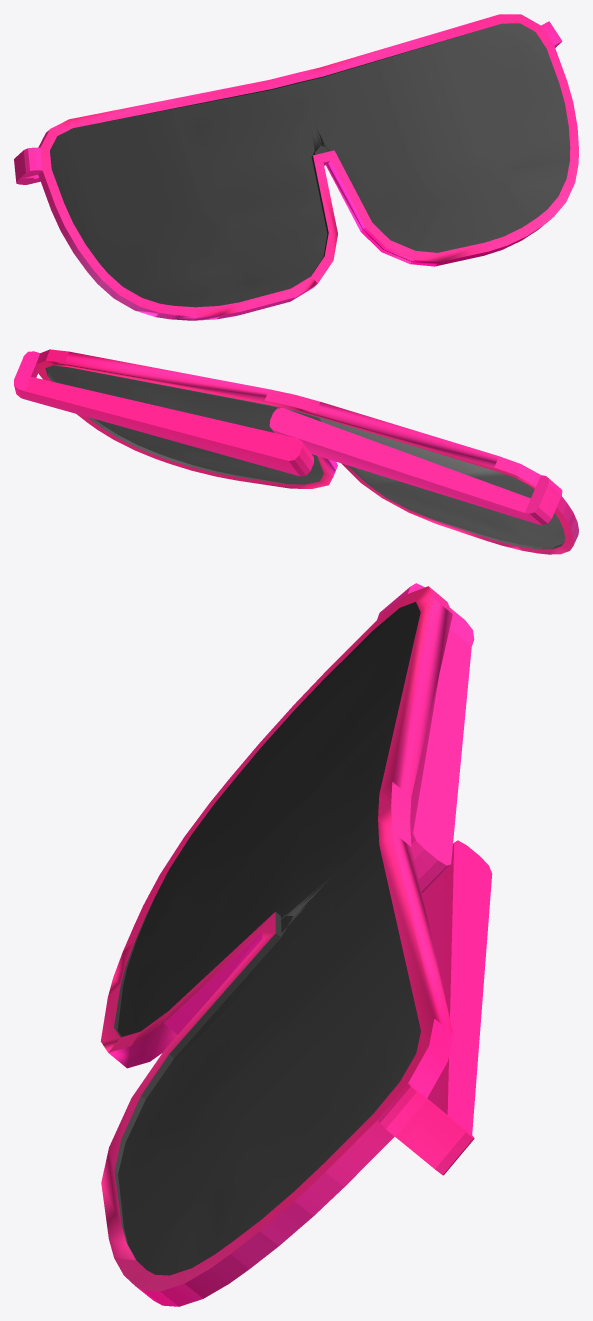
The model's file is BeachSunglassesPink.glb.
3 renders of one model, top to bottom at view 1: azimuth 30°, elevation 25°; view 2: azimuth 150°, elevation 25°; view 3: azimuth 270°, elevation 25°, orthographic. The views are drawn at different scales.
Parts seen in each view (by area): view 1: BeachSunglassesPink; view 2: BeachSunglassesPink; view 3: BeachSunglassesPink.
Part boxes in pixels (x1,y1,x2,y2): BeachSunglassesPink: (14, 14, 578, 320); BeachSunglassesPink: (14, 349, 578, 554); BeachSunglassesPink: (100, 583, 492, 1306).
Bounding box in the file's own units: 0.2291 × 0.0671 × 0.0725.
Materials: 1 (1 with a texture image).
